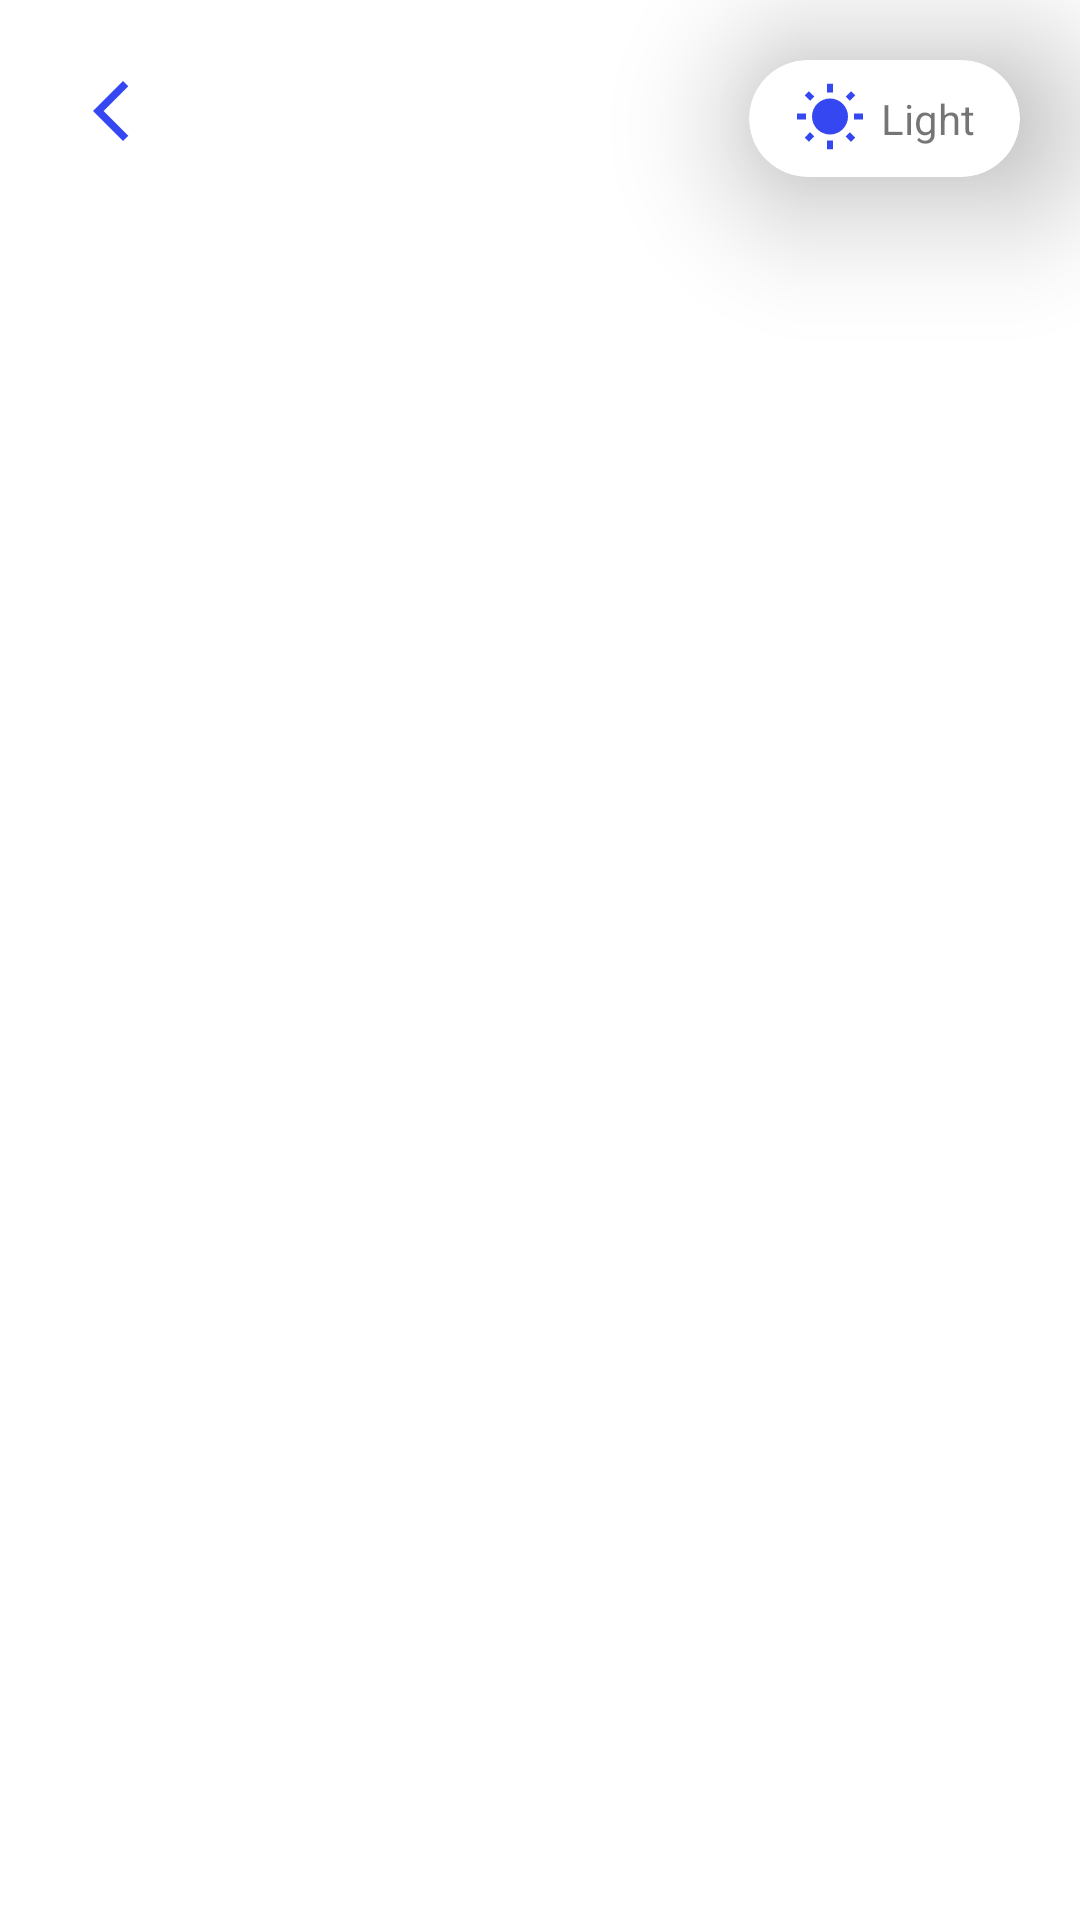

Screen size 1080px x 1920px. Icon name, then its box in pixels as (x1, y1, x2, y2):
back arrow: (93, 81, 128, 141)
mode day: (797, 83, 863, 150)
